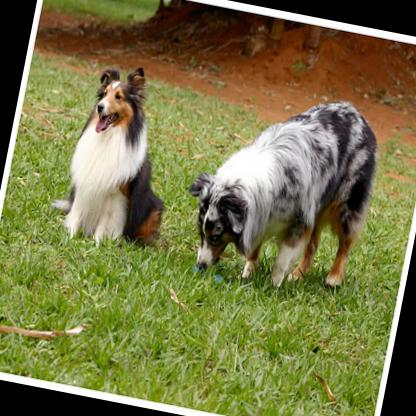Shetland_sheepdog: (170, 72, 388, 302), (46, 54, 192, 265)
